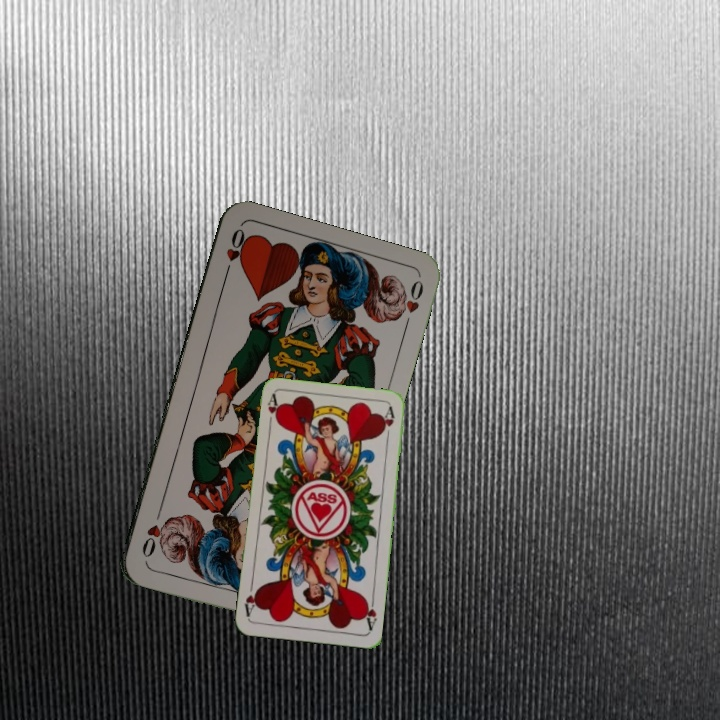HA: (359, 592, 379, 633), (264, 392, 281, 432)
HO: (220, 224, 251, 282)
